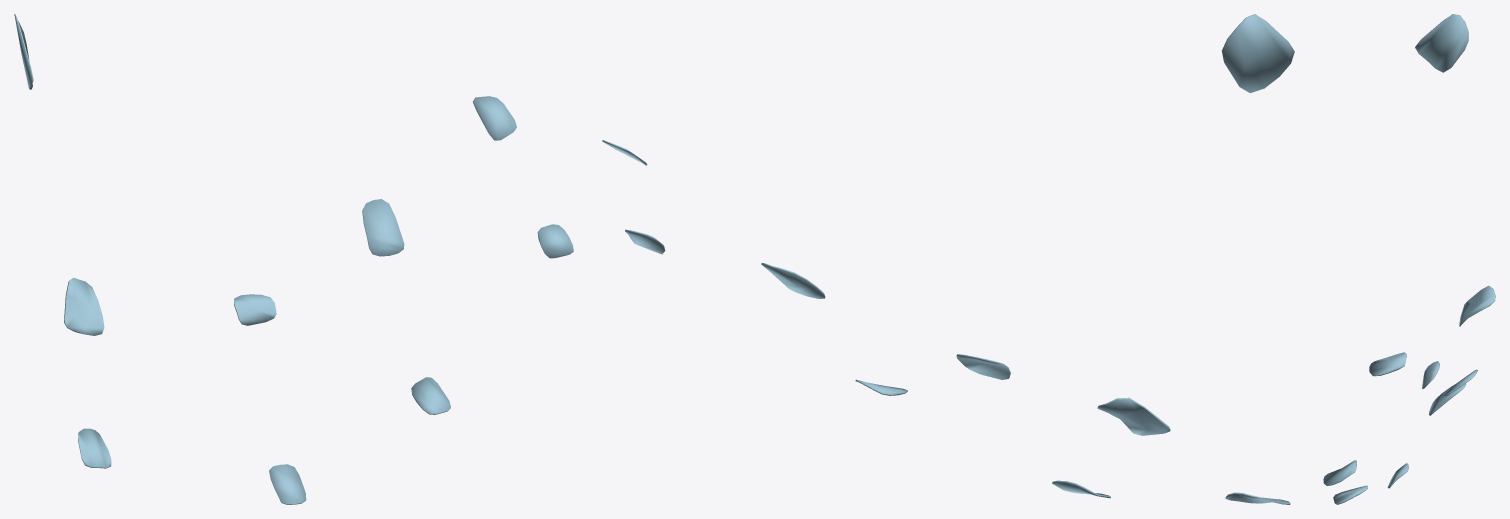
File: articulacoes-palmar-interphalangeal-ligaments-r.glb
The picture shows the model from 3 angles, left to right: view 1: azimuth 30°, elevation 25°; view 2: azimuth 150°, elevation 25°; view 3: azimuth 270°, elevation 25°; orthographic projection. The views are drawn at different scales.
Visible parts, largest first — view 1: Palmar interphalangeal ligaments.r; view 2: Palmar interphalangeal ligaments.r; view 3: Palmar interphalangeal ligaments.r.
Part boxes in pixels (x1,y1,x2,y2): Palmar interphalangeal ligaments.r: (14, 14, 573, 504); Palmar interphalangeal ligaments.r: (602, 14, 1294, 504); Palmar interphalangeal ligaments.r: (1323, 14, 1495, 504).
Size of the model in its own units: 0.096 by 0.0834 by 0.0335.
